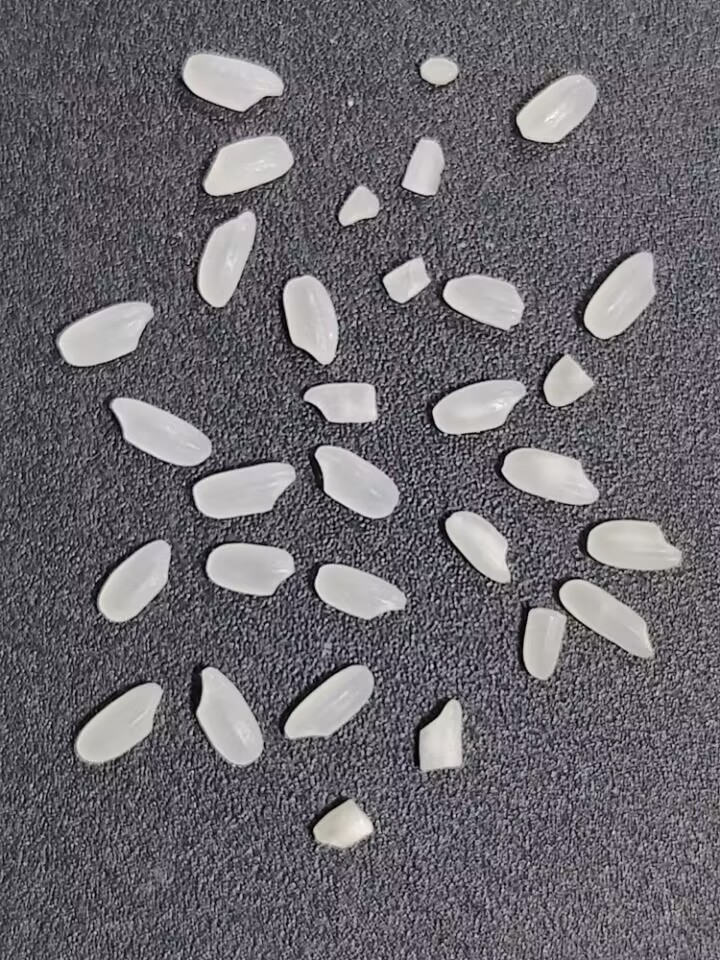broken: (296, 381, 383, 431), (395, 135, 453, 204), (541, 349, 599, 413), (416, 699, 465, 773), (309, 797, 376, 850), (522, 607, 565, 681), (380, 255, 433, 306), (334, 179, 382, 234), (418, 54, 464, 90)
rice: (68, 678, 165, 770), (282, 659, 381, 745), (189, 664, 269, 770), (579, 246, 664, 343), (184, 455, 301, 524), (92, 534, 171, 634), (309, 442, 405, 524), (56, 295, 160, 370), (559, 578, 653, 660), (108, 395, 215, 467), (493, 441, 604, 510), (180, 47, 286, 115), (274, 268, 347, 365), (194, 203, 260, 309), (311, 561, 412, 626), (197, 132, 296, 198), (515, 71, 598, 145), (577, 518, 686, 574), (200, 537, 297, 599), (432, 377, 527, 435), (440, 273, 527, 332), (444, 510, 513, 583)
